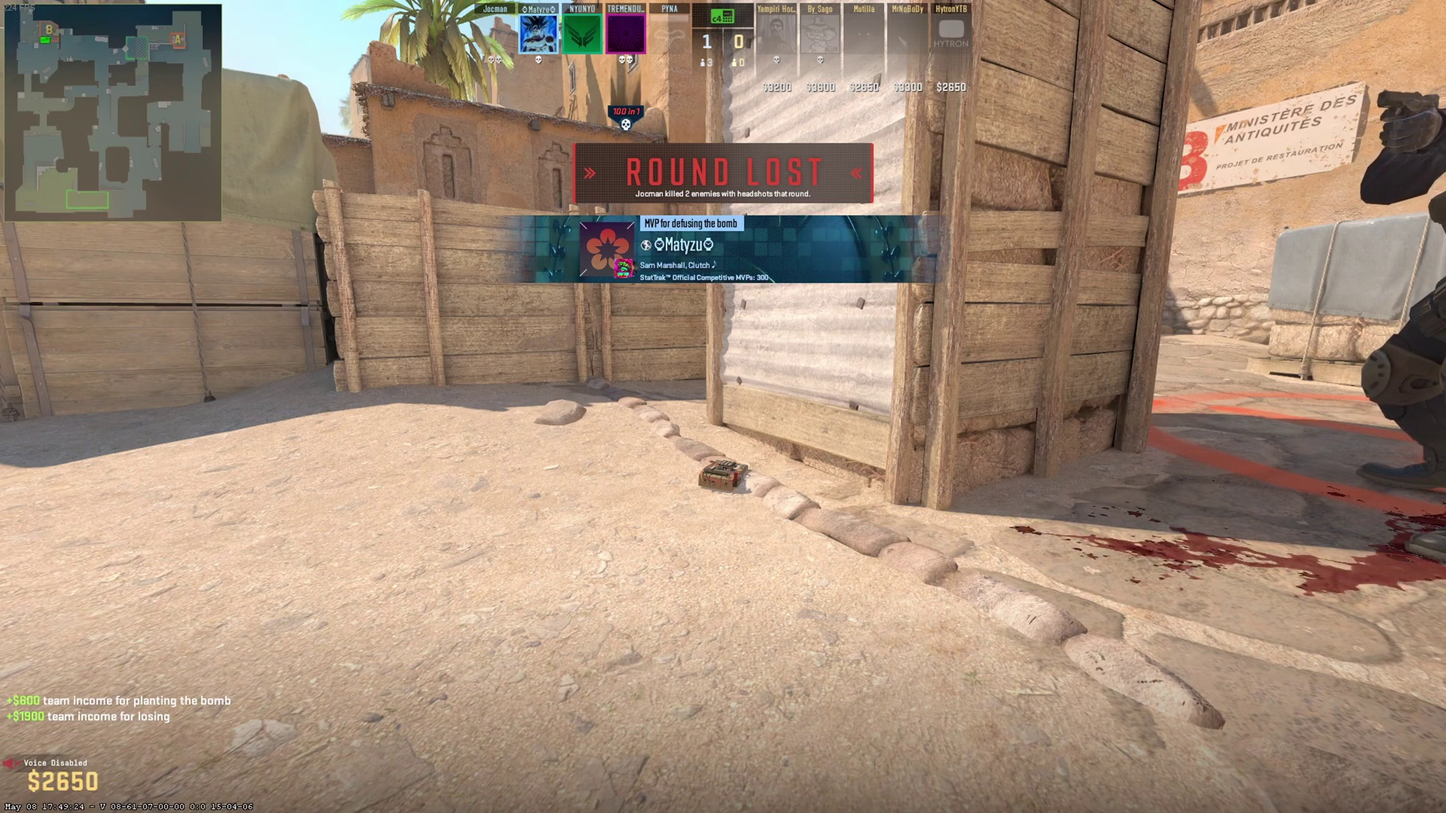CT: (1361, 94, 1446, 490)
